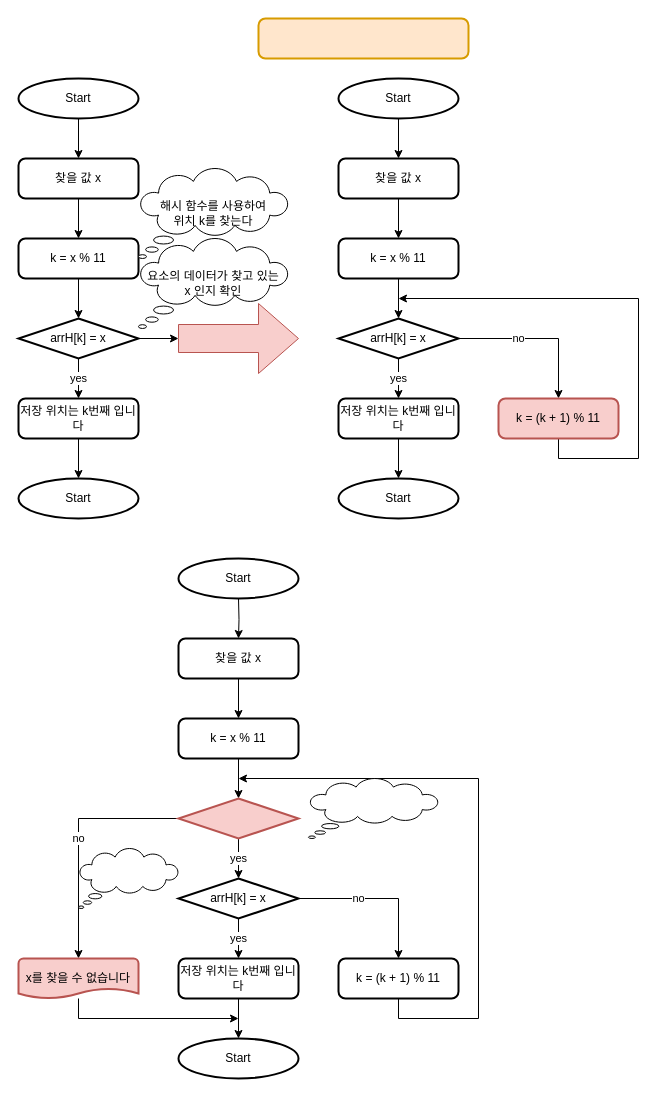
This 664x1096 diagram has some shape labels left out. The box of each missing label's shape, as (x1, y1, x2, y2) in pixels:
arrH[k] != 0: (177, 797, 299, 839)
arrH[k]에 데이터가 저장되어 있는지를 확인: (308, 778, 438, 838)
Hash Search (검색): (257, 17, 469, 59)
값이 지정되어 있지 않은 경우: (78, 848, 178, 908)
찾는값이 아닌경우, 충돌로 인해 다른 위치에 있는 경우: (178, 302, 298, 374)
